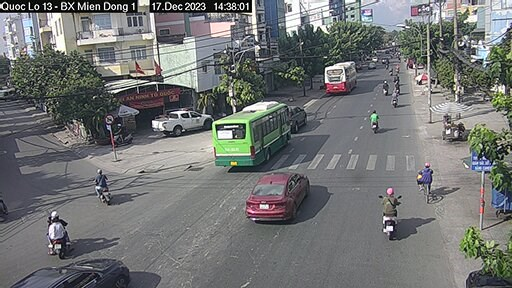bus: (214, 104, 295, 164), (326, 64, 358, 93)
car: (22, 257, 136, 288), (245, 171, 314, 221), (153, 109, 213, 136)
motorbike: (45, 211, 72, 253), (380, 186, 399, 236), (90, 171, 116, 205), (369, 110, 385, 133), (388, 91, 400, 106)
